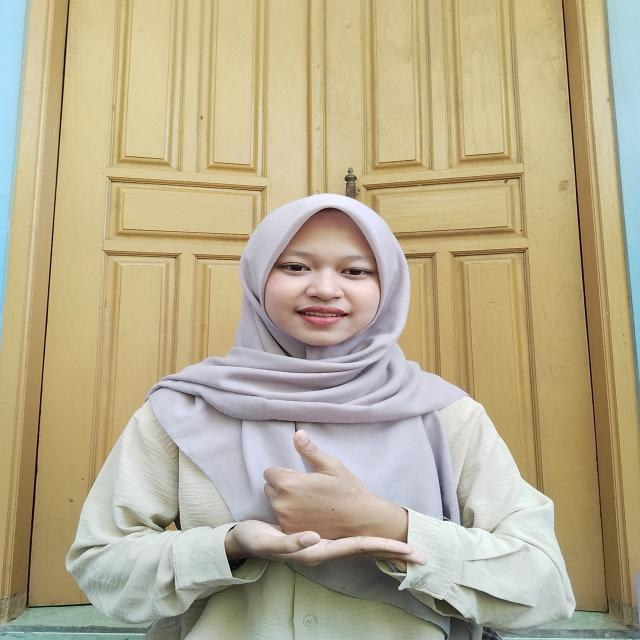cantik: (201, 433, 428, 583)
